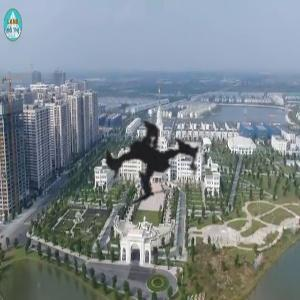drone: (23, 35, 285, 297)
